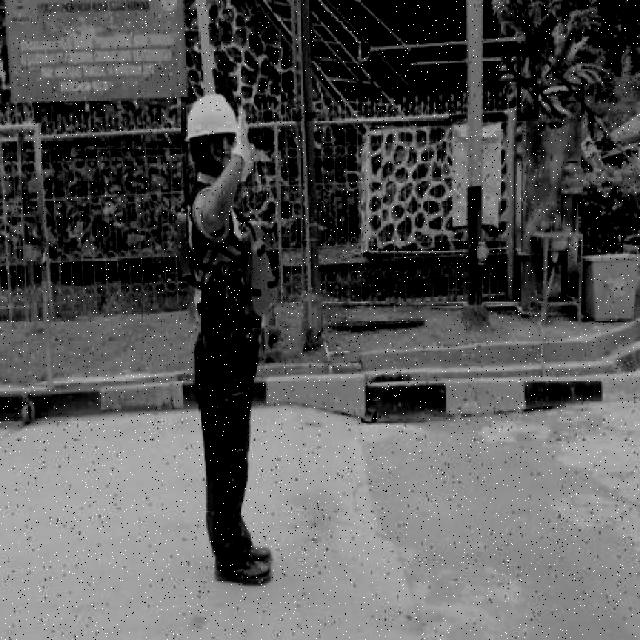Boots: (212, 554, 274, 588), (246, 542, 274, 564)
Gloves: (230, 103, 252, 166)
Helmet: (183, 94, 240, 138)
Mask: (172, 204, 280, 324)
